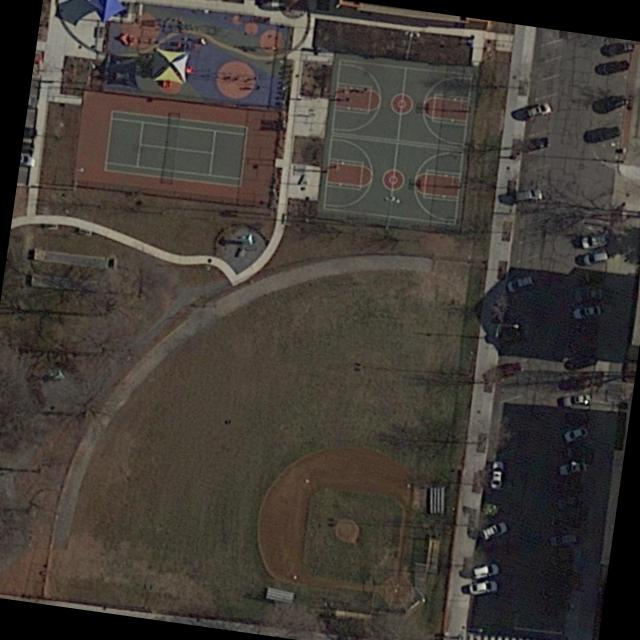small-vehicle: (489, 359, 524, 383), (593, 93, 630, 115), (501, 322, 532, 345), (519, 134, 551, 155), (479, 520, 508, 543), (548, 531, 582, 550), (564, 352, 596, 371), (504, 274, 534, 294), (587, 126, 620, 144), (580, 231, 608, 252), (597, 59, 630, 76), (469, 562, 498, 580), (515, 187, 542, 206), (559, 376, 589, 393), (561, 393, 592, 409), (525, 101, 551, 120), (467, 580, 496, 597), (581, 250, 609, 267), (562, 427, 590, 444), (605, 41, 634, 57), (574, 287, 603, 303), (489, 460, 504, 490), (558, 461, 588, 476), (572, 306, 600, 320)
